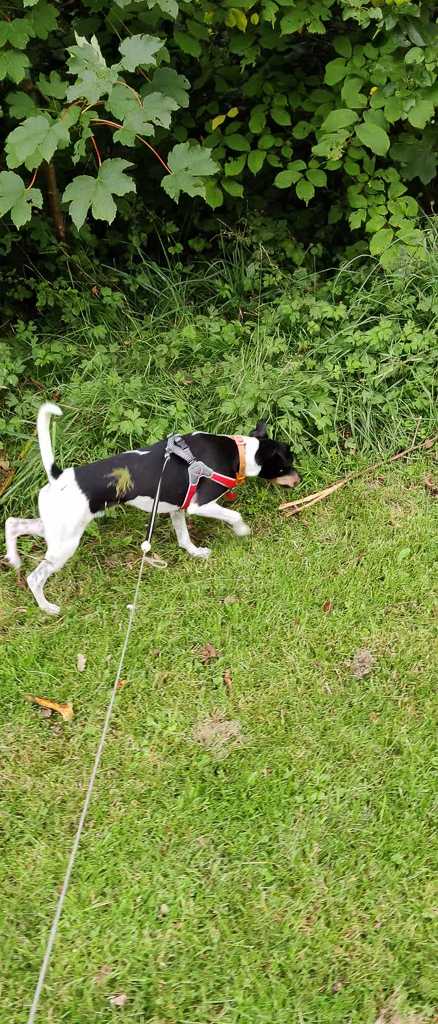Dog: (1, 393, 308, 623)
